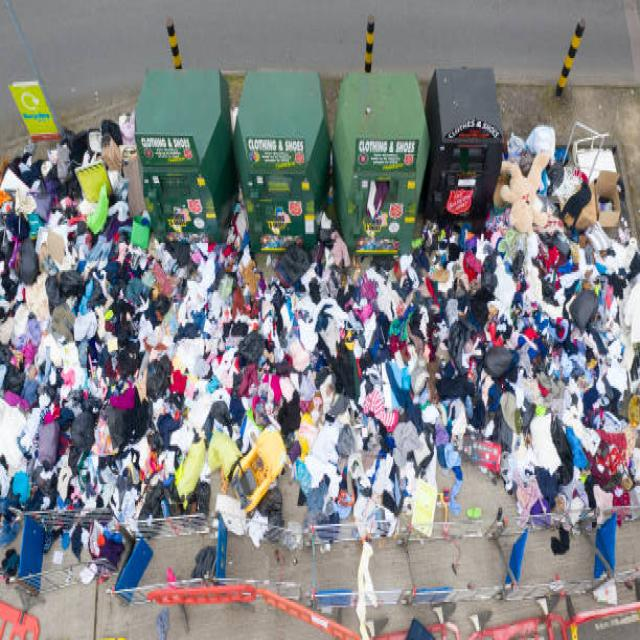cardboard: (593, 168, 623, 234)
metal: (132, 44, 518, 174)
trash: (12, 182, 588, 558)
